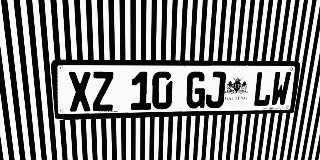0: (152, 72, 173, 110)
1: (131, 72, 152, 110)
G: (185, 72, 207, 109)
J: (205, 71, 226, 108)
L: (252, 71, 274, 107)
W: (270, 71, 292, 106)
X: (67, 72, 92, 112)
Z: (91, 72, 114, 111)
